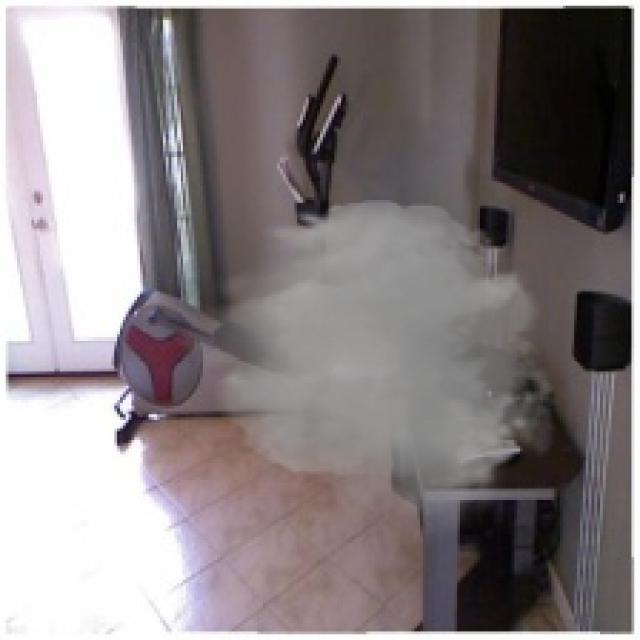smoke: (168, 191, 572, 543)
